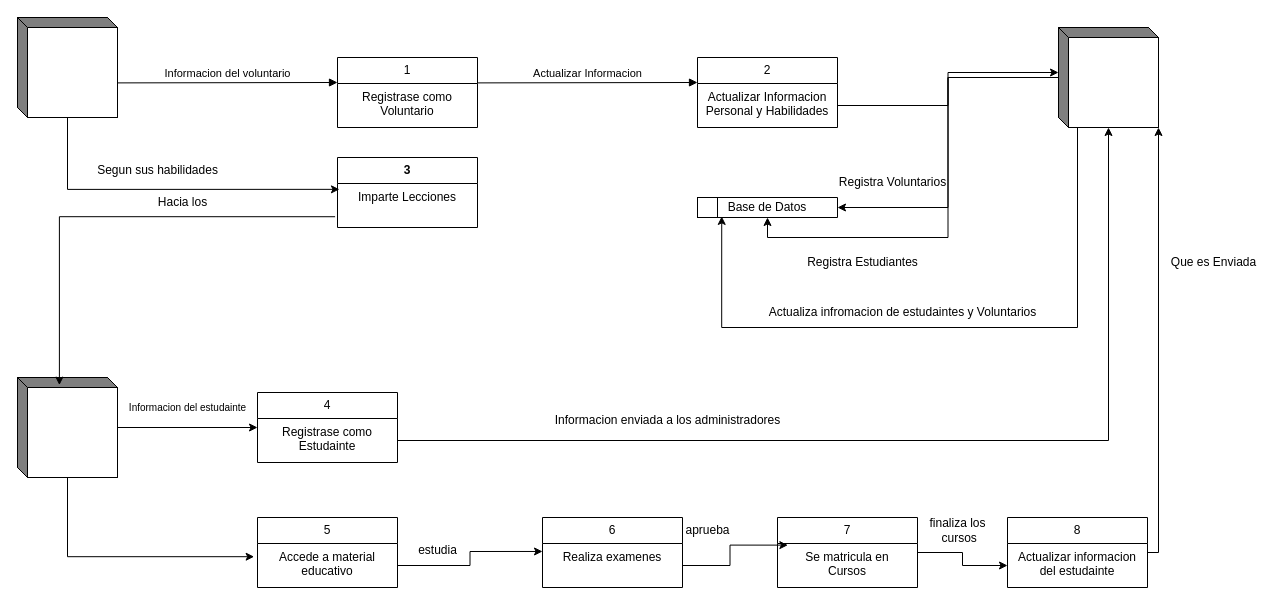
Image size: 1286x608. Some labels were removed from this diagram. Each missing label, with the centre of its shape:
"Administradores" belongs at [1108,77].
"Estudiantes" belongs at [67,427].
"Voluntarios" belongs at [67,67].
